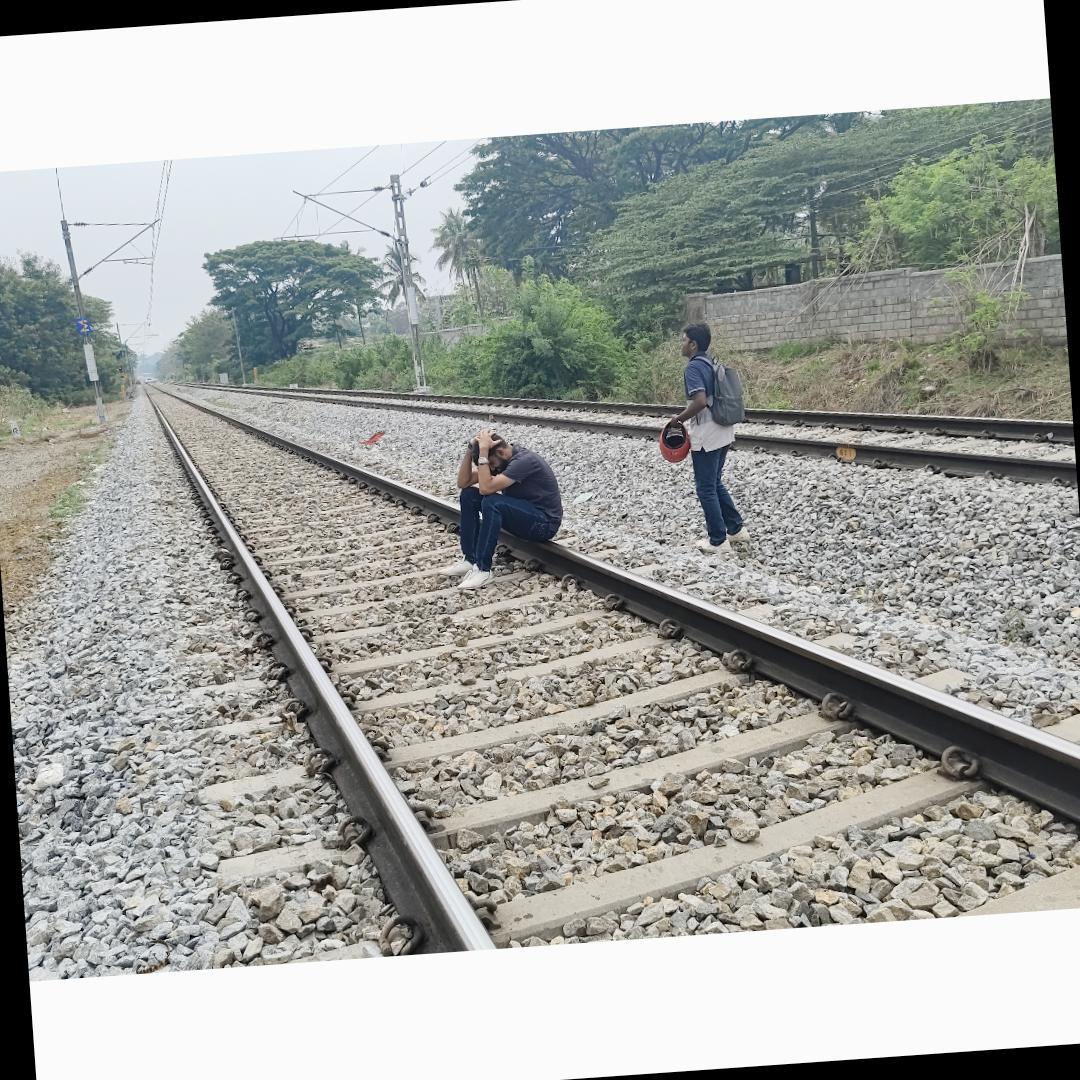sitting: (433, 431, 568, 593)
standing: (659, 319, 754, 553)
track: (140, 381, 1080, 954)
